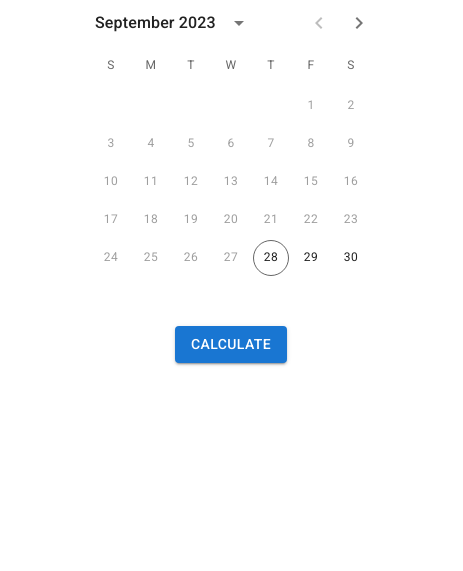
Scenario: CompoundInterestCalculator › calculates future value when "Calculate" button is clicked
This screenshot has width=463, height=571.
What coordinates should you click on to do the following:
click the button "Calculate"
I would click on:
 (231, 344)
Its box is [175,326,287,362].
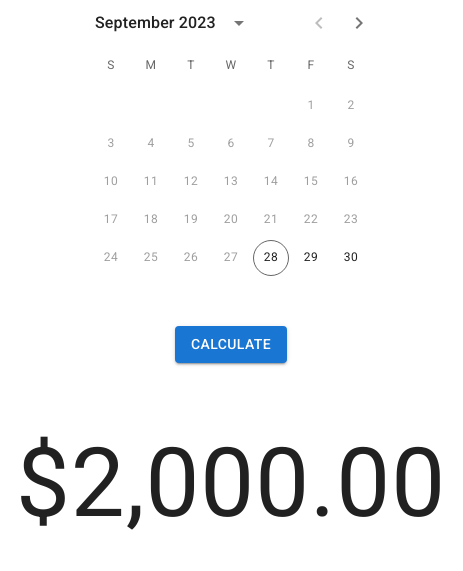
Now the text "$2,000.00" is shown, box [16,410,446,554]
